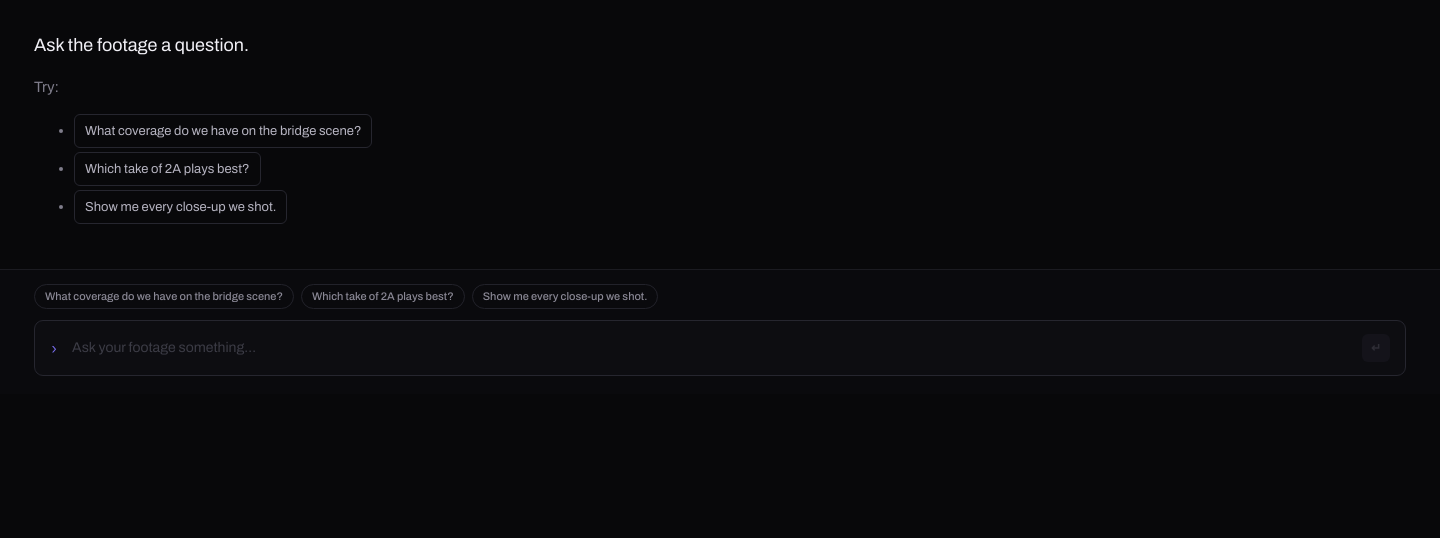
Test: SessionView › sends the clicked clarifying option as the next turn
Type "Dialogue in scene S03 take 3" into the text box labelled "Ask your footage something" at point(710, 348), box top-left (70, 336), bottom-right (1350, 360)
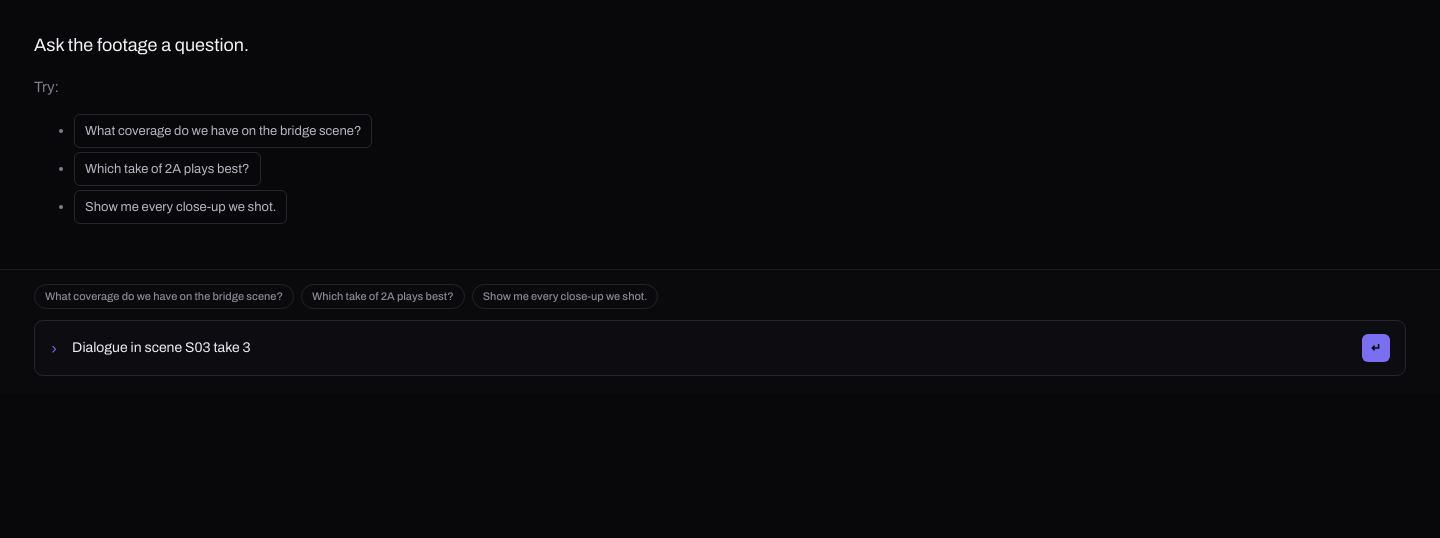
Press Enter in the text box named "Ask your footage something", box top-left (70, 336), bottom-right (1350, 360)
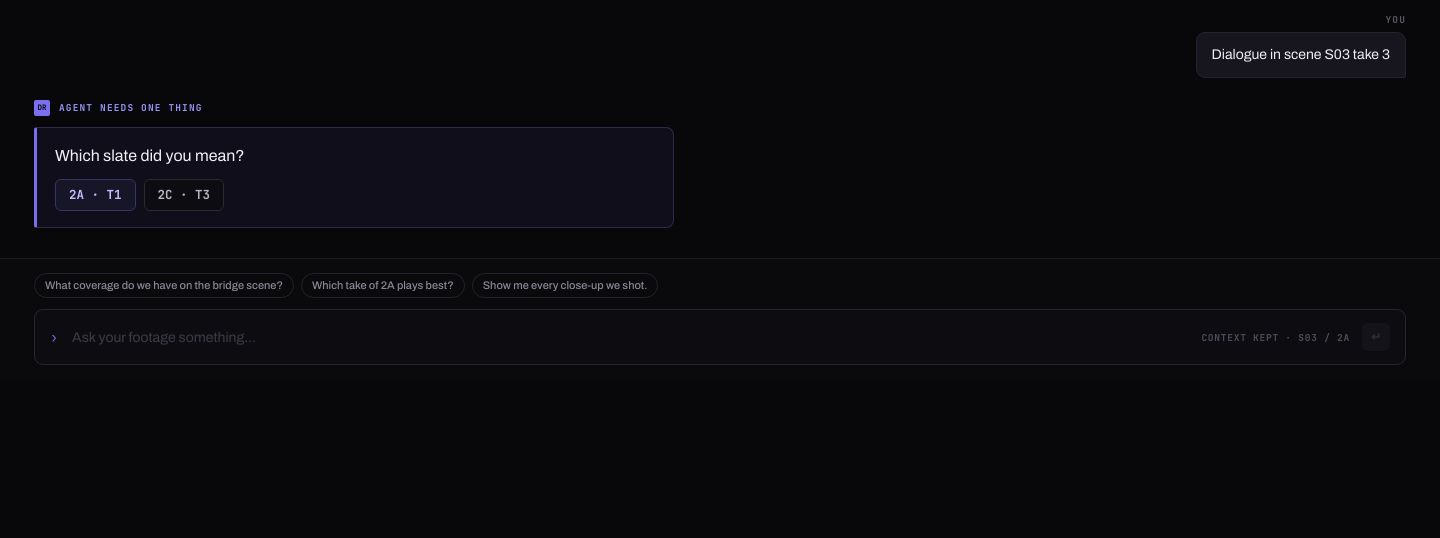
Check: the text "Which slate did you mean?" is shown, box top-left (55, 147), bottom-right (244, 164)
Click the button "2C · T3" at point(184, 195), box top-left (144, 179), bottom-right (224, 212)
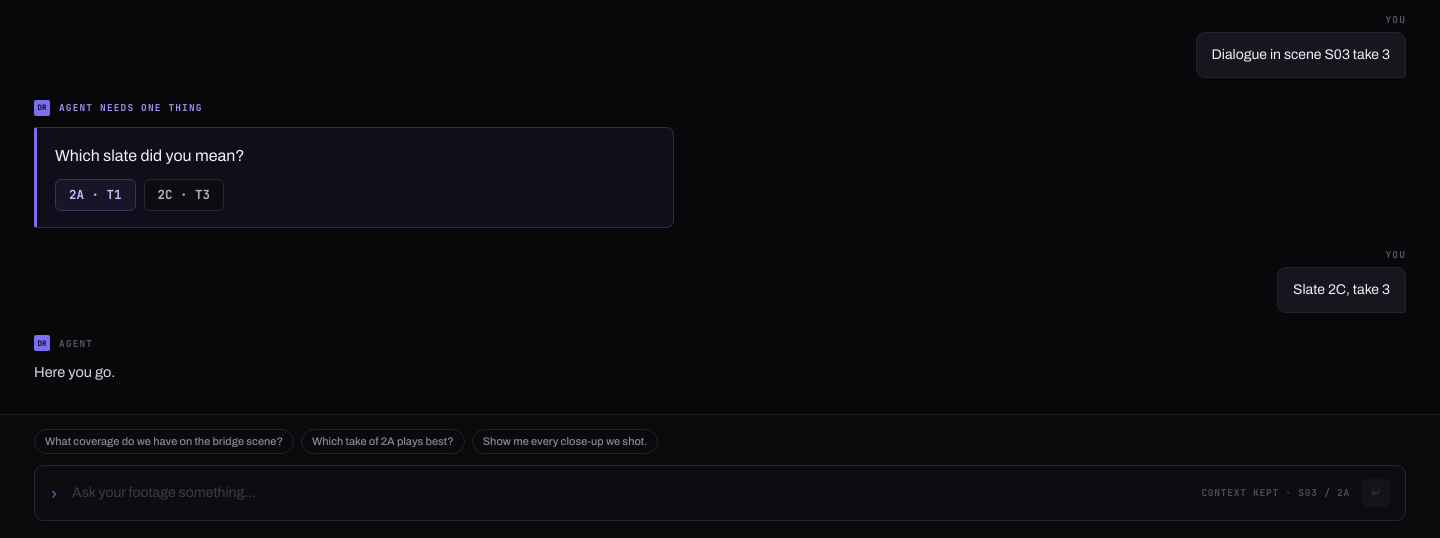
Check: the text "Slate 2C, take 3" is shown, box top-left (1277, 267), bottom-right (1406, 313)
